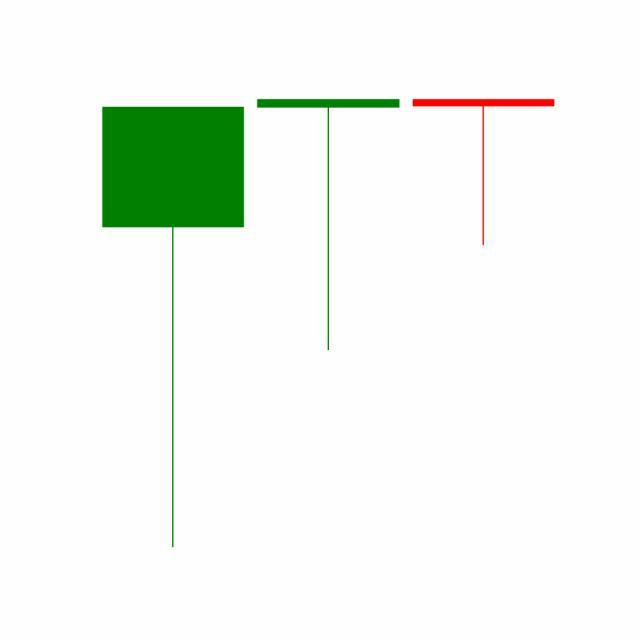Dragonfly Doji: (250, 97, 407, 354)
